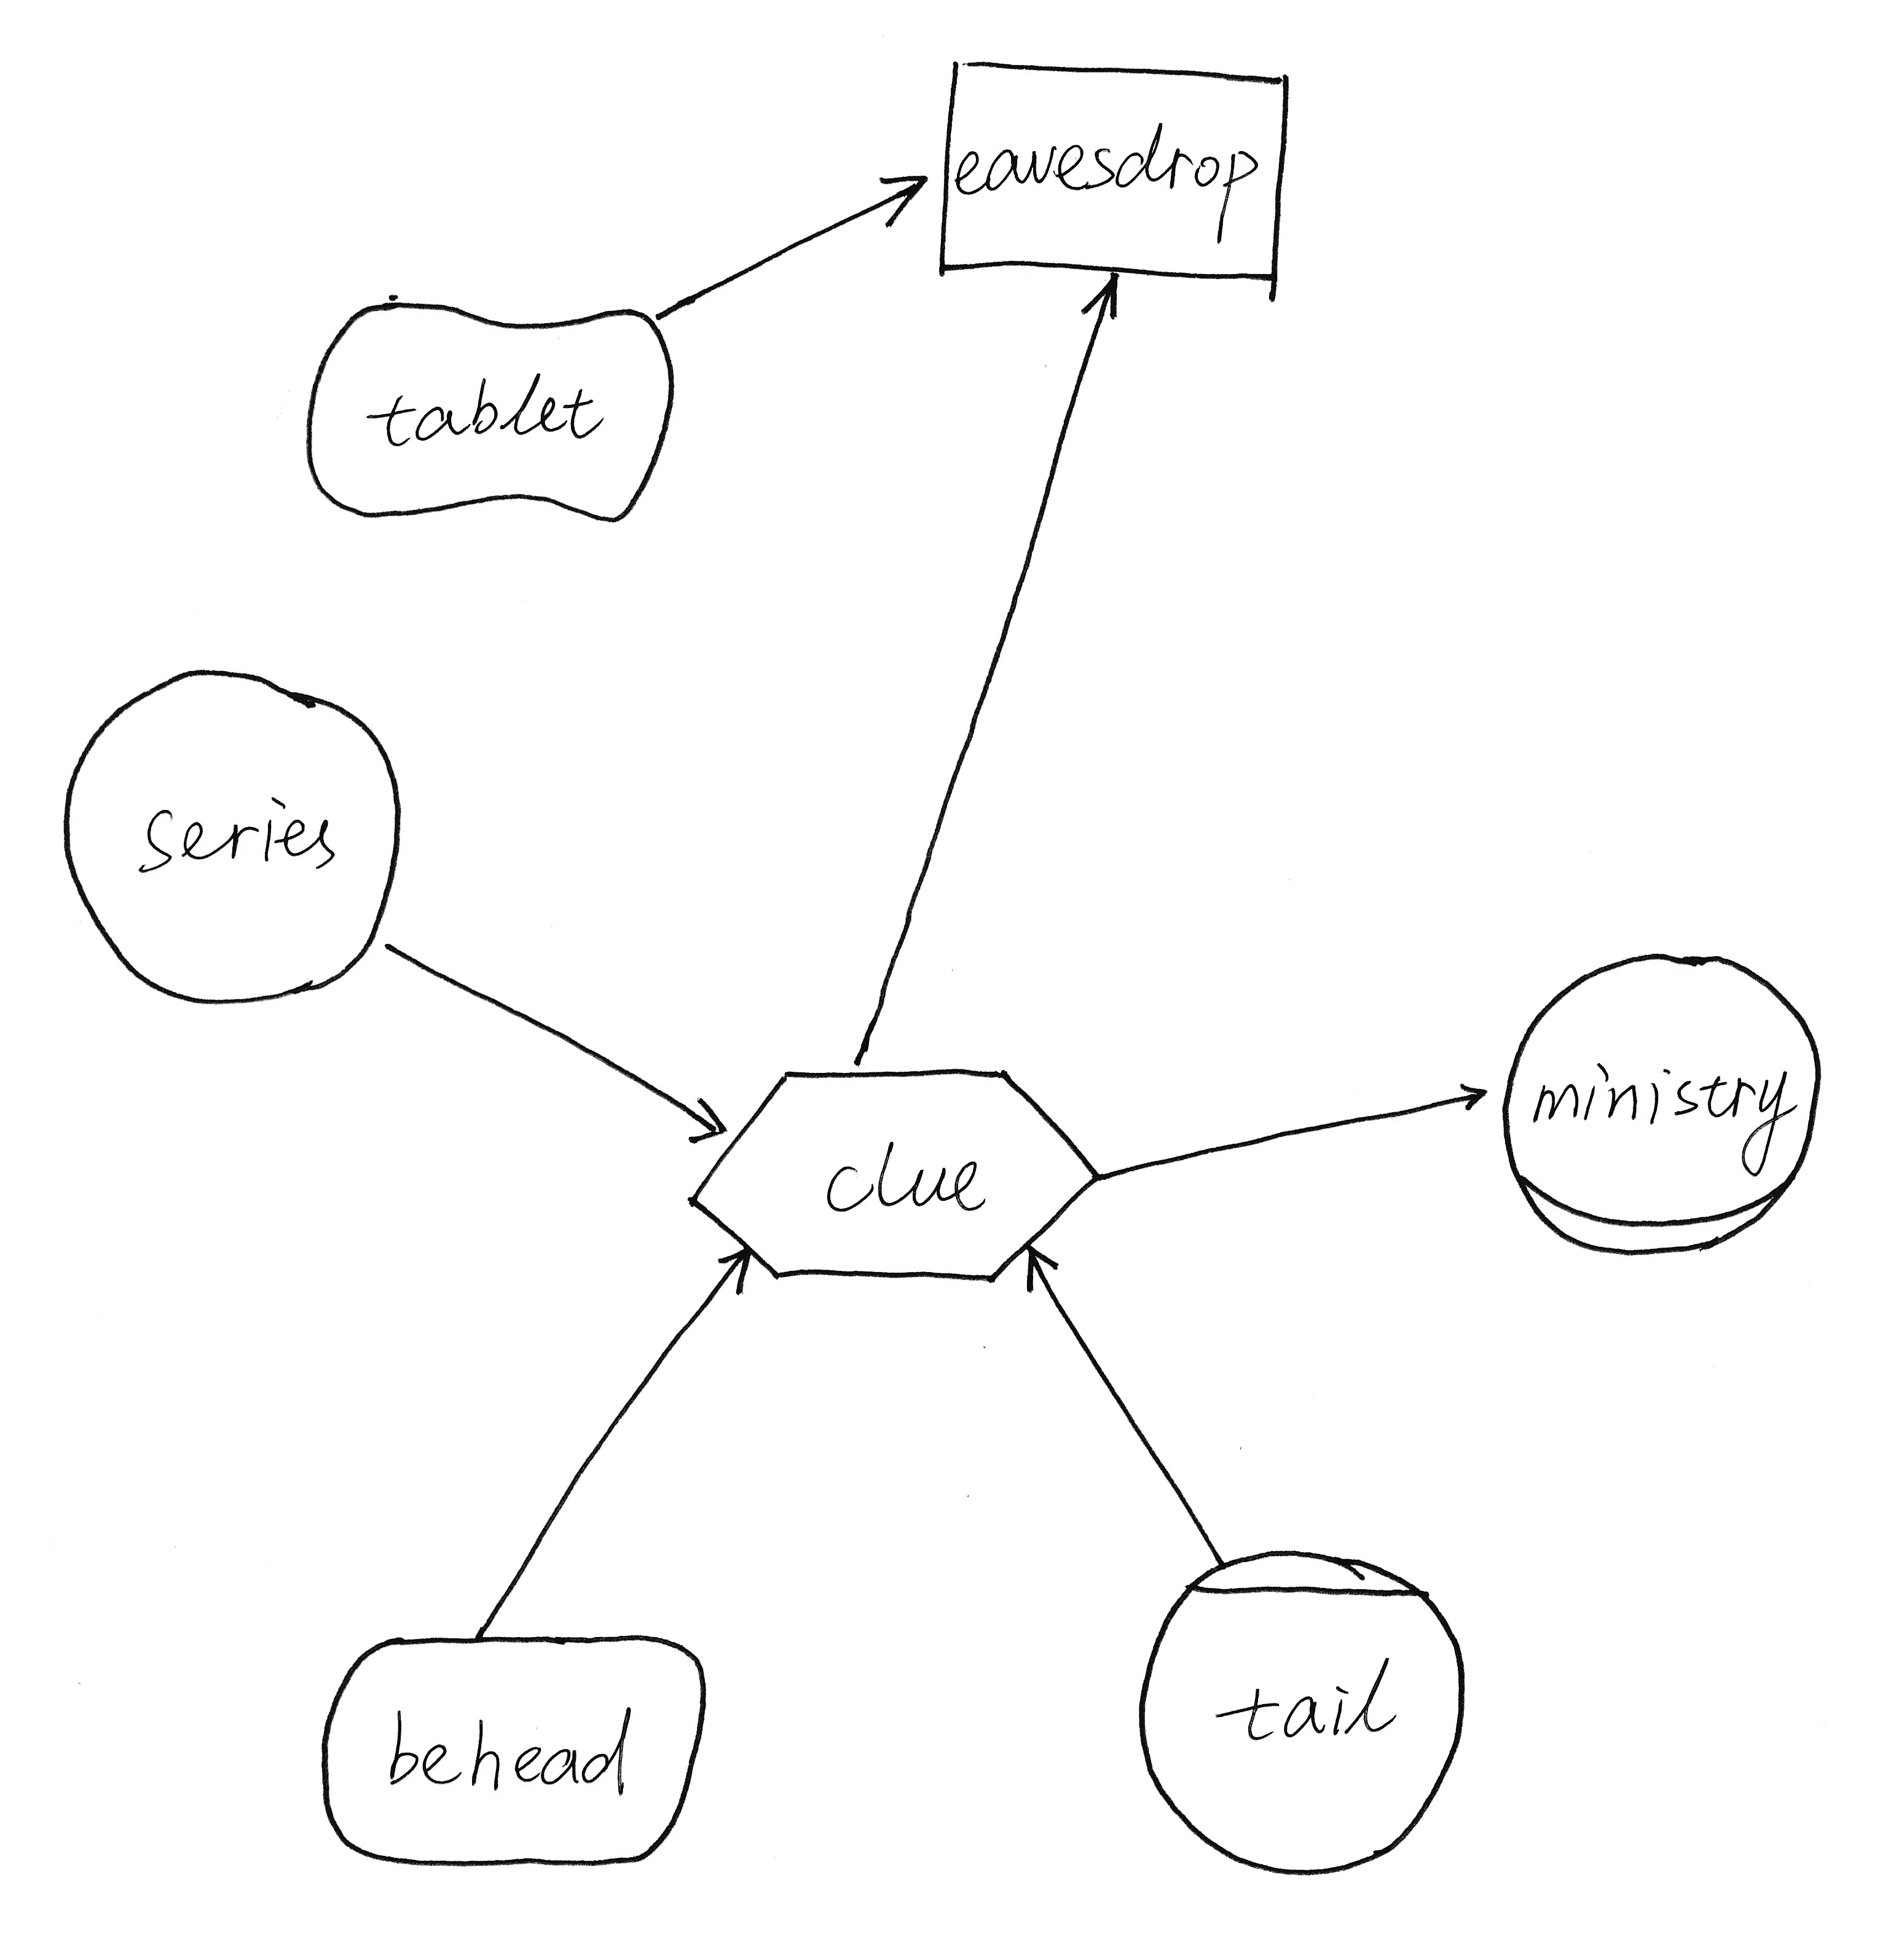actor: (40, 645, 424, 1020)
agent: (1118, 1531, 1493, 1892)
arrow: (999, 1222, 1081, 1308), (697, 1233, 786, 1309), (1069, 256, 1146, 338), (670, 1079, 739, 1156), (868, 159, 935, 239), (1437, 1070, 1505, 1132)
goal: (295, 1607, 724, 1879)
quality: (284, 279, 699, 540)
resource: (921, 40, 1313, 309)
role: (1487, 935, 1838, 1269)
task: (668, 1048, 1114, 1297)
